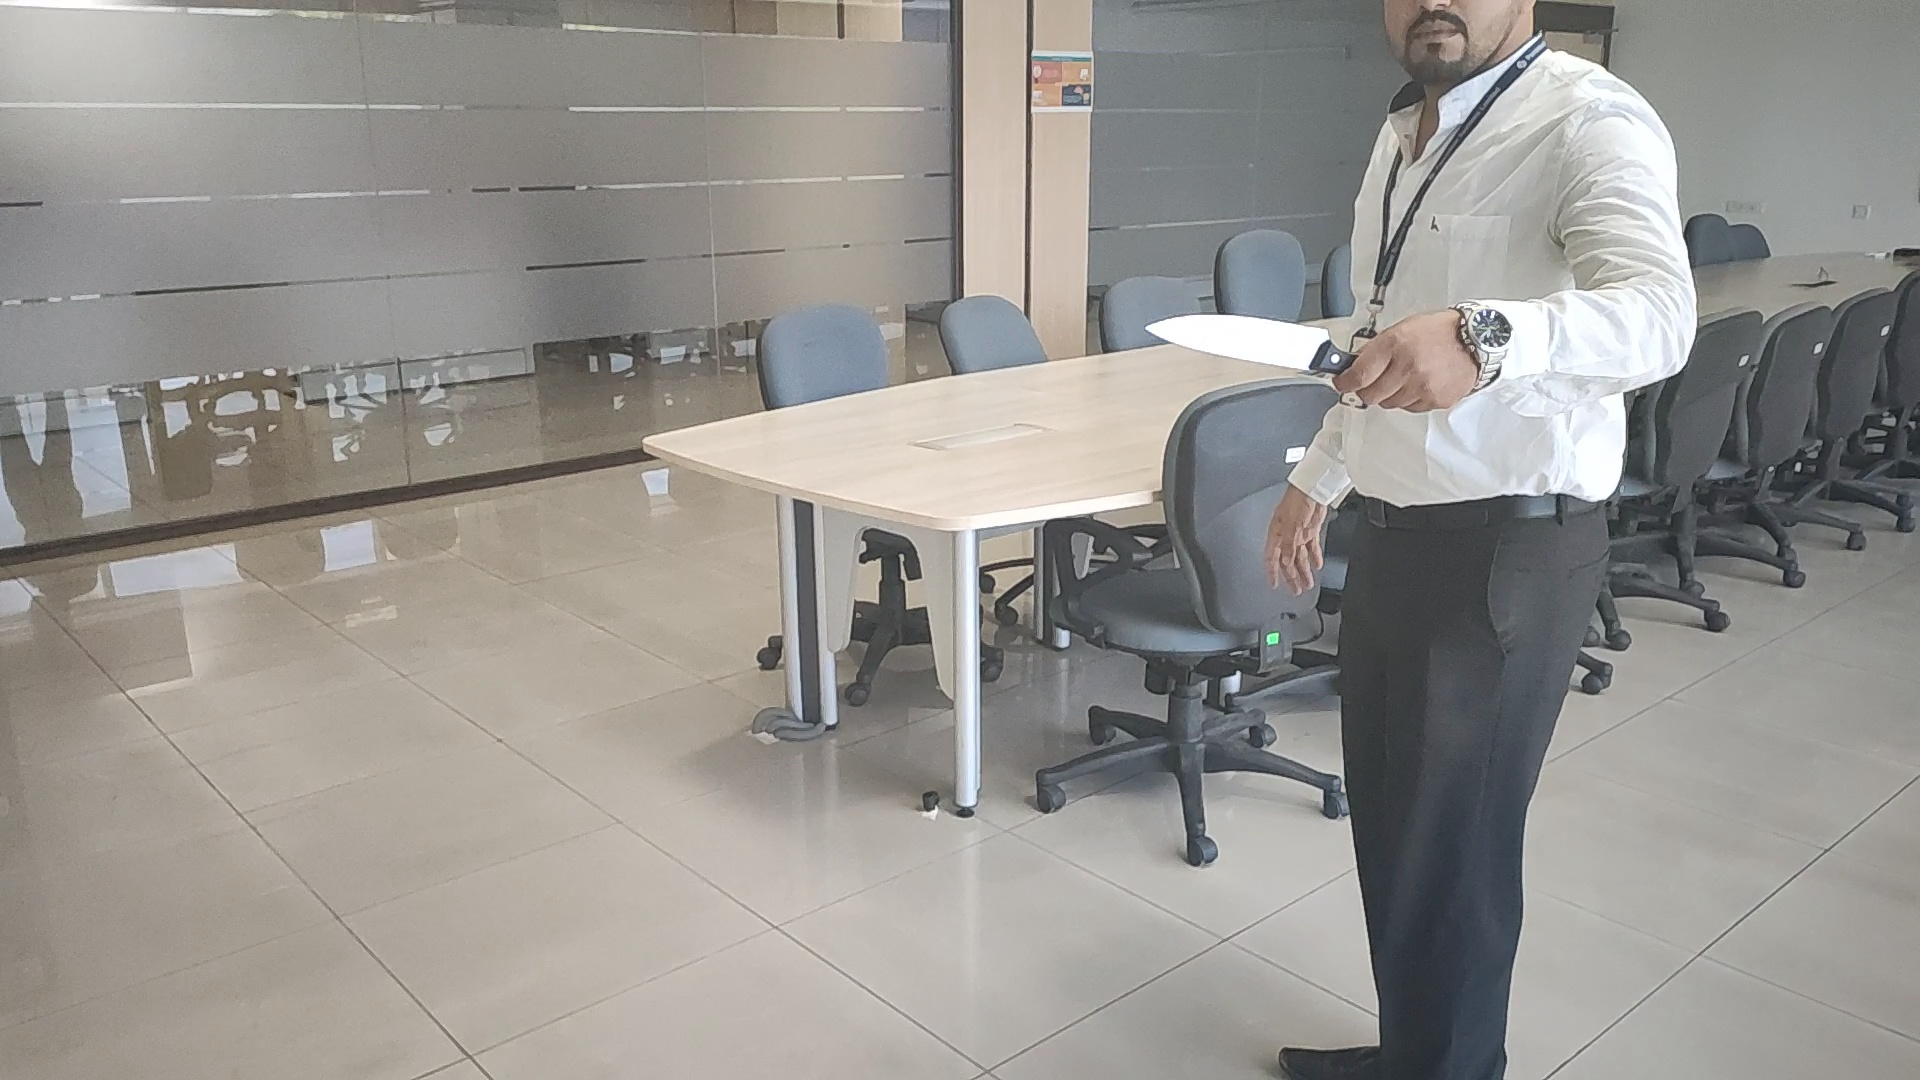knife: (1147, 307, 1349, 378)
